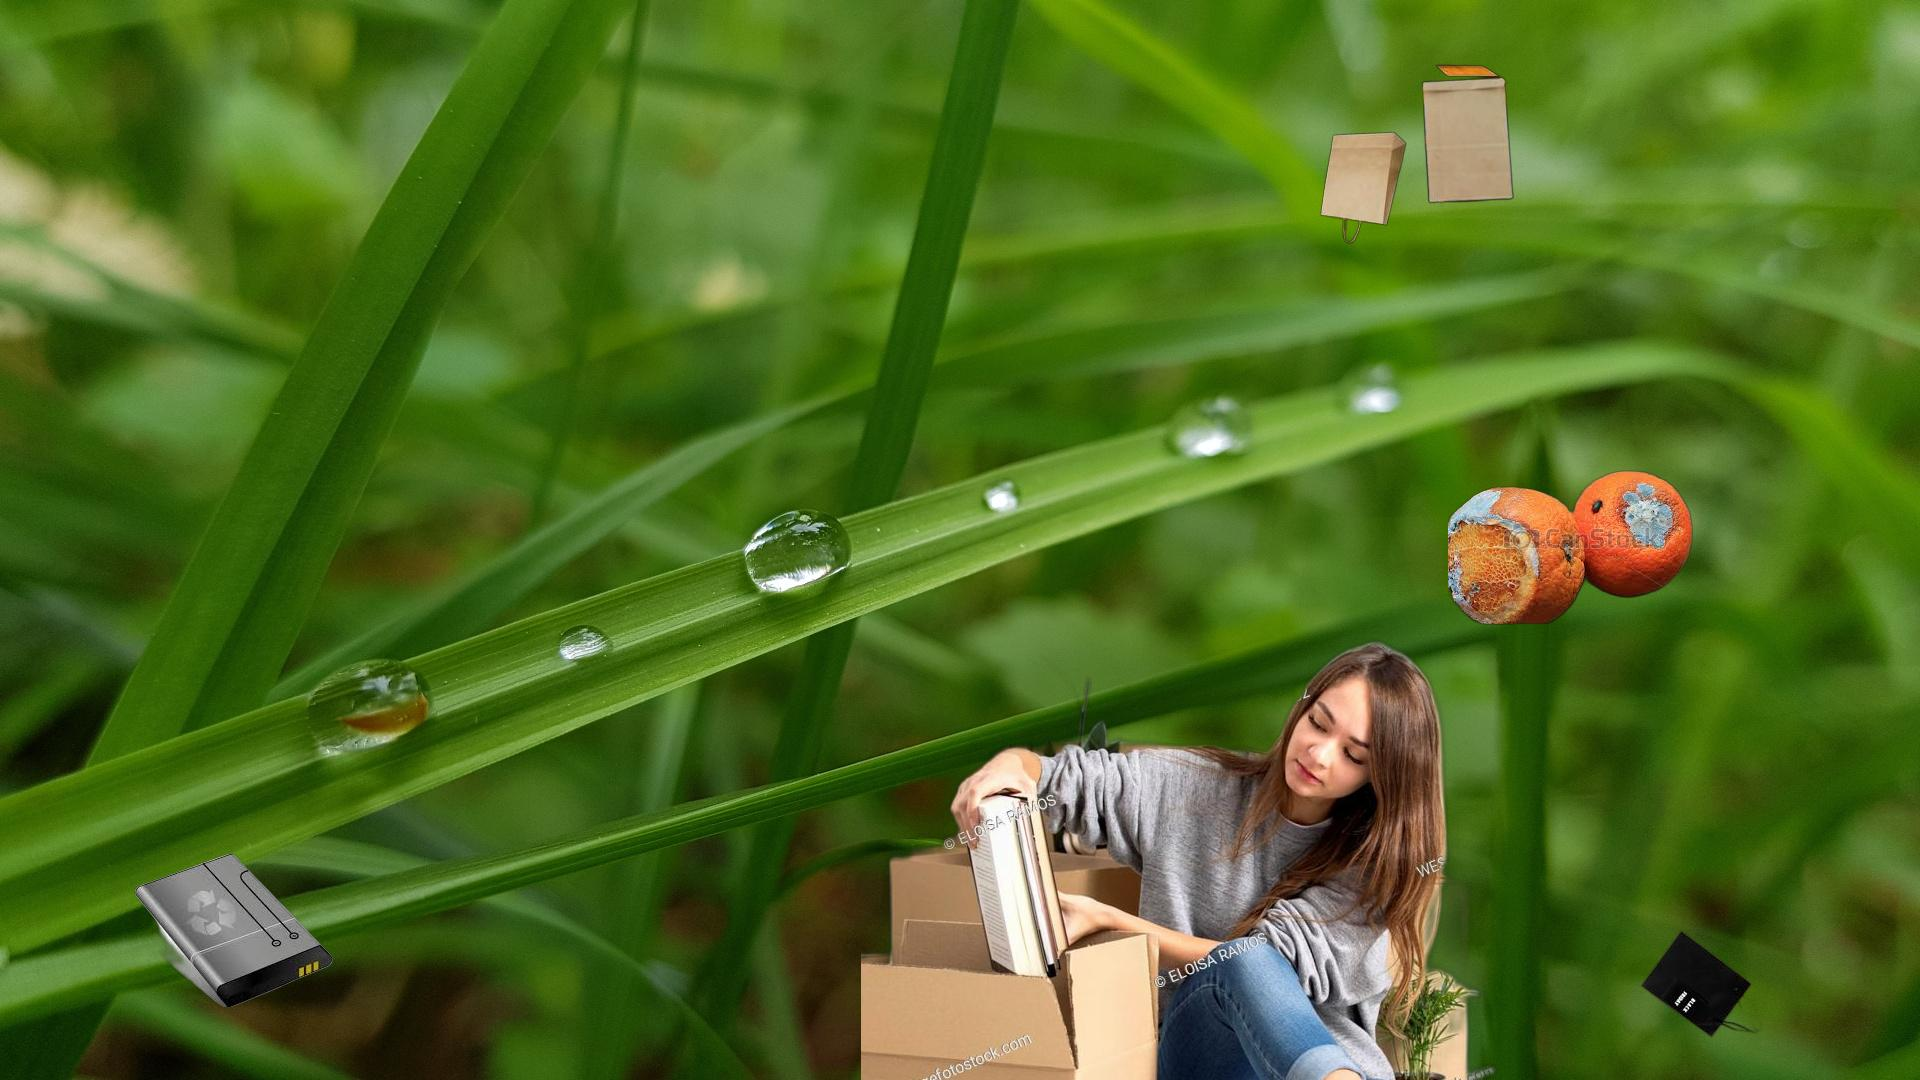battery: (132, 851, 334, 1010)
biological: (1448, 468, 1695, 628)
paper-bag: (1490, 928, 1764, 1080), (1320, 63, 1515, 247)
trashbox-cardboard: (861, 632, 1561, 1080)
